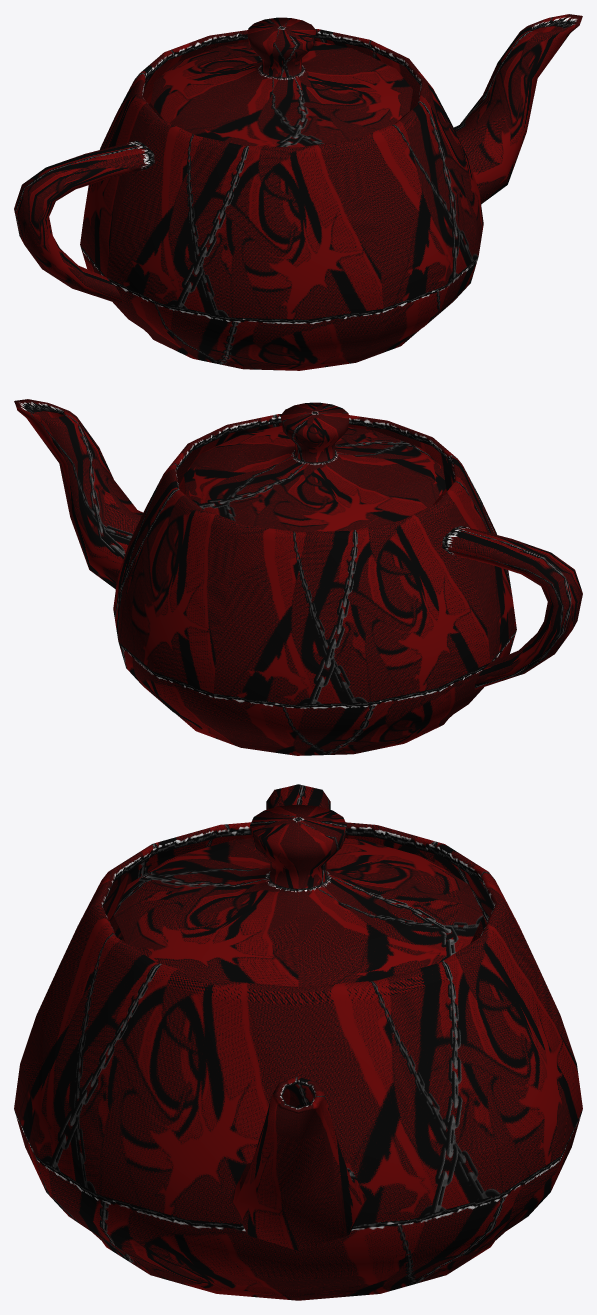
Rendered from teapot.FBX.
3 renders of one model, top to bottom at view 1: azimuth 30°, elevation 25°; view 2: azimuth 150°, elevation 25°; view 3: azimuth 270°, elevation 25°, orthographic. The views are drawn at different scales.
Visible parts, largest first — view 1: Teapot001; view 2: Teapot001; view 3: Teapot001.
Boxes of the visible parts, box(x1,y1,x2,y2) form: Teapot001: box(14, 14, 582, 370); Teapot001: box(14, 399, 582, 755); Teapot001: box(14, 784, 582, 1300).
Bounding box in the file's own units: 3.21 × 1.58 × 2.
Materials: 1 (1 with a texture image).
